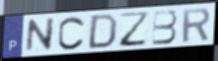B: (151, 9, 179, 47)
C: (57, 15, 87, 52)
D: (86, 13, 120, 50)
N: (24, 17, 57, 55)
R: (181, 7, 212, 44)
Z: (118, 10, 151, 49)
